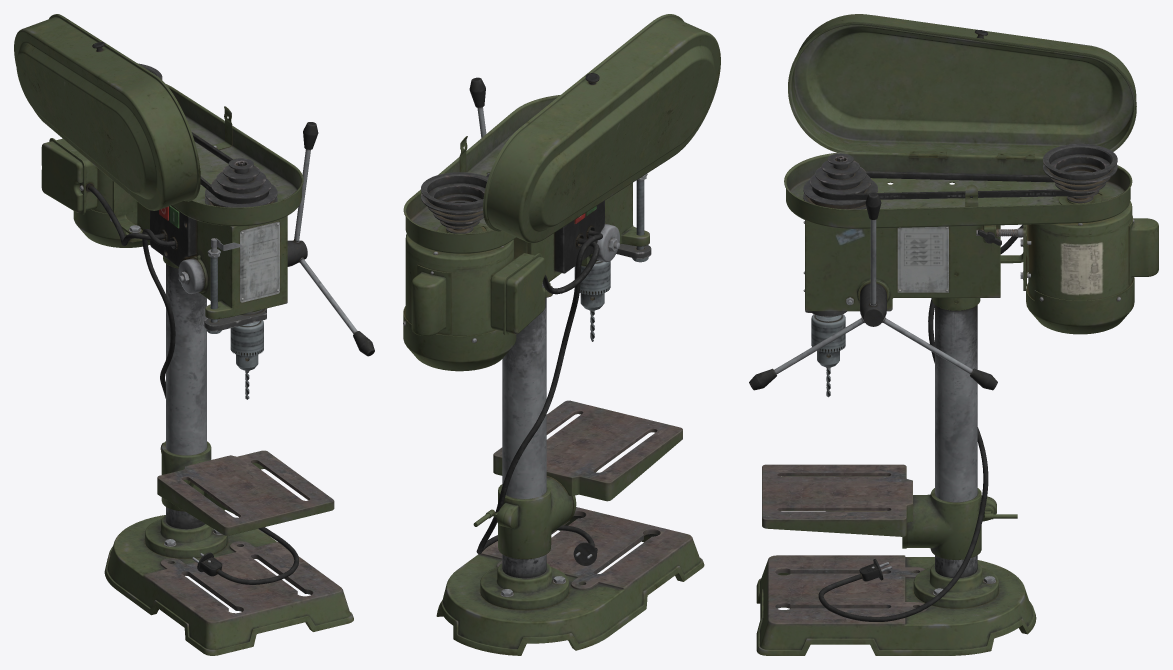
The model's file is drill_press_01_1k.fbx.
The picture shows the model from 3 angles, left to right: view 1: azimuth 30°, elevation 25°; view 2: azimuth 150°, elevation 25°; view 3: azimuth 270°, elevation 25°; orthographic projection. The views are drawn at different scales.
Parts seen in each view (by area): view 1: drill_press_01, drill_press_01_lid, drill_press_01_plate, drill_press_01_gear_b, drill_press_01_plug, drill_press_01_handle, drill_press_01_limiter, drill_press_01_bit, drill_press_01_belt; view 2: drill_press_01, drill_press_01_lid, drill_press_01_plate, drill_press_01_gear_a, drill_press_01_plug, drill_press_01_bit, drill_press_01_limiter, drill_press_01_handle; view 3: drill_press_01, drill_press_01_lid, drill_press_01_plate, drill_press_01_handle, drill_press_01_gear_a, drill_press_01_belt, drill_press_01_plug, drill_press_01_gear_b, drill_press_01_bit.
Boxes of the visible parts, box(x1,y1,x2,y2) form: drill_press_01: box(41, 84, 353, 655); drill_press_01_lid: box(14, 14, 200, 210); drill_press_01_plate: box(157, 441, 334, 535); drill_press_01_gear_b: box(205, 158, 277, 207); drill_press_01_plug: box(142, 229, 298, 584); drill_press_01_handle: box(287, 122, 374, 356); drill_press_01_limiter: box(204, 238, 266, 333); drill_press_01_bit: box(230, 320, 263, 399); drill_press_01_belt: box(191, 132, 268, 203); drill_press_01: box(403, 95, 704, 655); drill_press_01_lid: box(483, 14, 720, 243); drill_press_01_plate: box(493, 400, 682, 559); drill_press_01_gear_a: box(421, 172, 488, 233); drill_press_01_plug: box(476, 230, 602, 565); drill_press_01_bit: box(574, 260, 610, 341); drill_press_01_limiter: box(616, 173, 651, 262); drill_press_01_handle: box(469, 77, 489, 174); drill_press_01: box(756, 152, 1158, 655); drill_press_01_lid: box(788, 14, 1136, 160); drill_press_01_plate: box(762, 464, 996, 559); drill_press_01_handle: box(749, 192, 997, 390); drill_press_01_gear_a: box(1043, 143, 1117, 203); drill_press_01_belt: box(812, 171, 1095, 200); drill_press_01_plug: box(818, 298, 988, 621); drill_press_01_gear_b: box(803, 153, 877, 209); drill_press_01_bit: box(811, 314, 845, 397).
Bounding box in the file's own units: 35.43 × 90.11 × 59.88.
